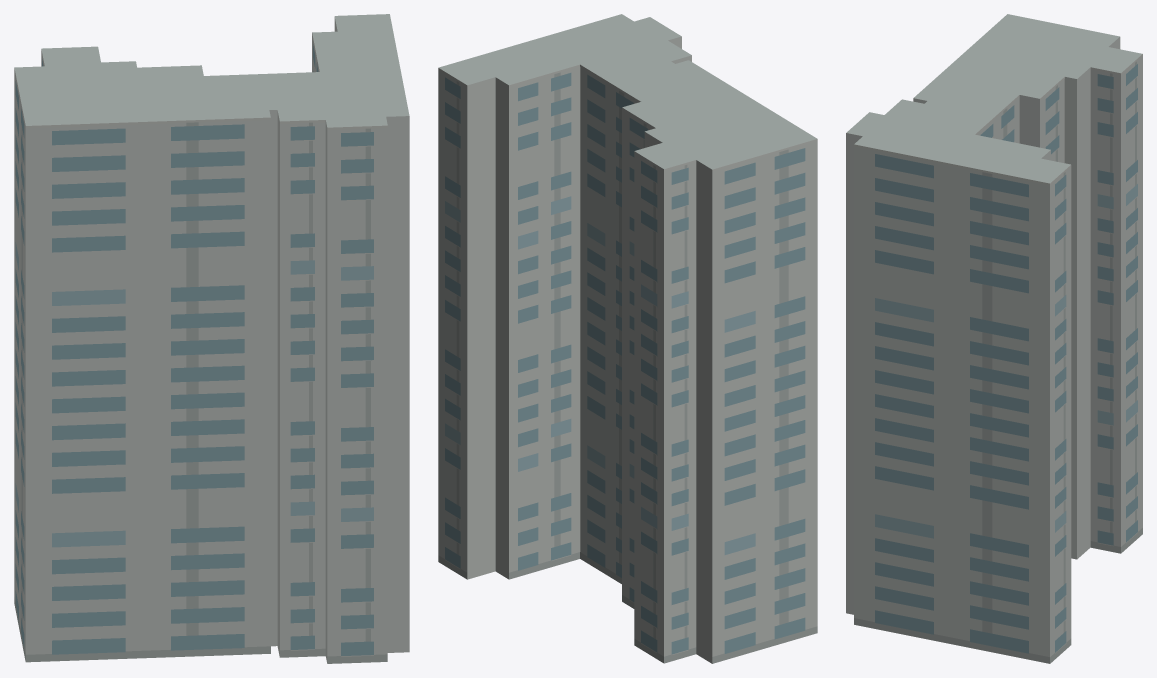
File: residential-8084ef62-ef7f-41e4-84d6-8b1b58b6d6dc.glb
3 views of the same model, side by side, from view 1: azimuth 30°, elevation 25°; view 2: azimuth 150°, elevation 25°; view 3: azimuth 270°, elevation 25° (orthographic). The views are drawn at different scales.
Visible parts, largest first — view 1: residential-8084ef62-ef7f-41e4-84d6-8b1b58b6d6dc.tmp; view 2: residential-8084ef62-ef7f-41e4-84d6-8b1b58b6d6dc.tmp; view 3: residential-8084ef62-ef7f-41e4-84d6-8b1b58b6d6dc.tmp.
Boxes of the visible parts, x1=… form: residential-8084ef62-ef7f-41e4-84d6-8b1b58b6d6dc.tmp: x1=14, y1=14, x2=409, y2=663; residential-8084ef62-ef7f-41e4-84d6-8b1b58b6d6dc.tmp: x1=438, y1=14, x2=817, y2=663; residential-8084ef62-ef7f-41e4-84d6-8b1b58b6d6dc.tmp: x1=846, y1=14, x2=1142, y2=663.
Size of the model in its own units: 43.16 by 57 by 31.92.
